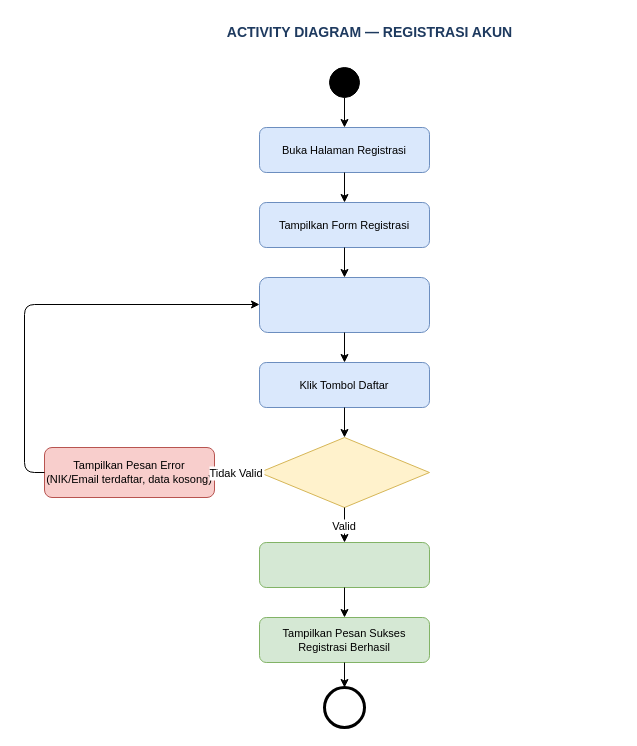
Image size: 637x746. Some labels were removed from this diagram. The shapes that lost their labels are listed below. From the top down, each one's centre as x and y in pixels, then its label:
At (x=344, y=304): "Isi Data Registrasi (Nama, Email, Password, NIK, Alamat, No.HP)".
At (x=344, y=472): "Data Valid?".
At (x=344, y=565): "Simpan Akun User ke Database".
